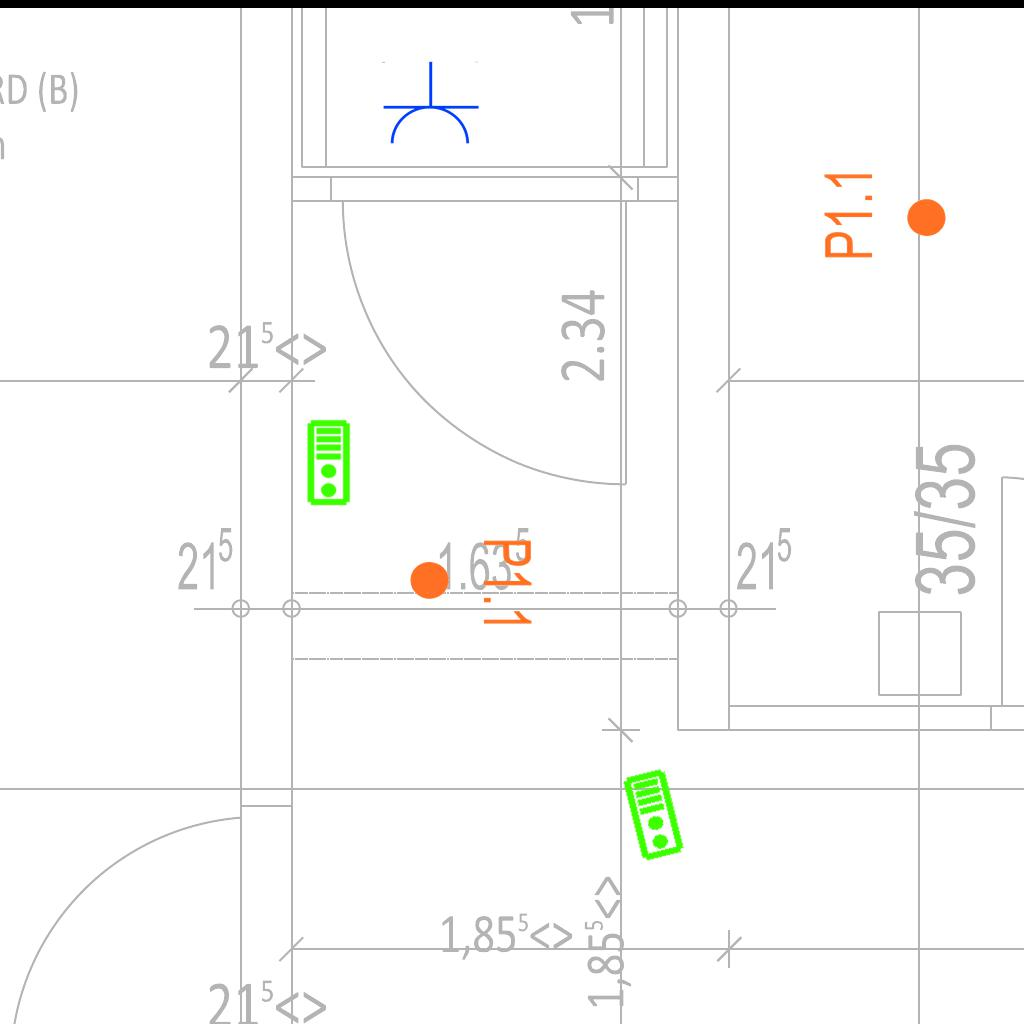Downlight_LED_Einbauleuchten_Flur: (821, 168, 949, 261), (407, 537, 535, 630)
Gegensprechanlage_mit_Video: (621, 766, 688, 864), (306, 419, 353, 507)
Schukosteckdose_einfach: (380, 61, 480, 148)
